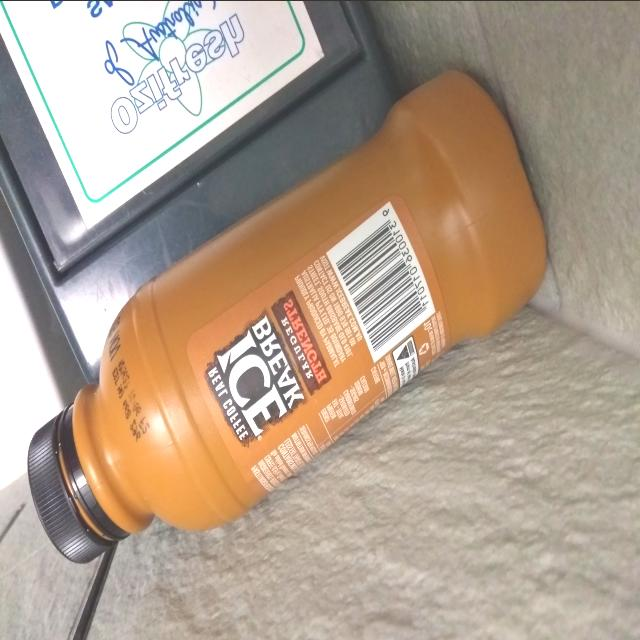Other plastic container: (27, 70, 547, 563)
Plastic bottle cap: (26, 409, 119, 564)
